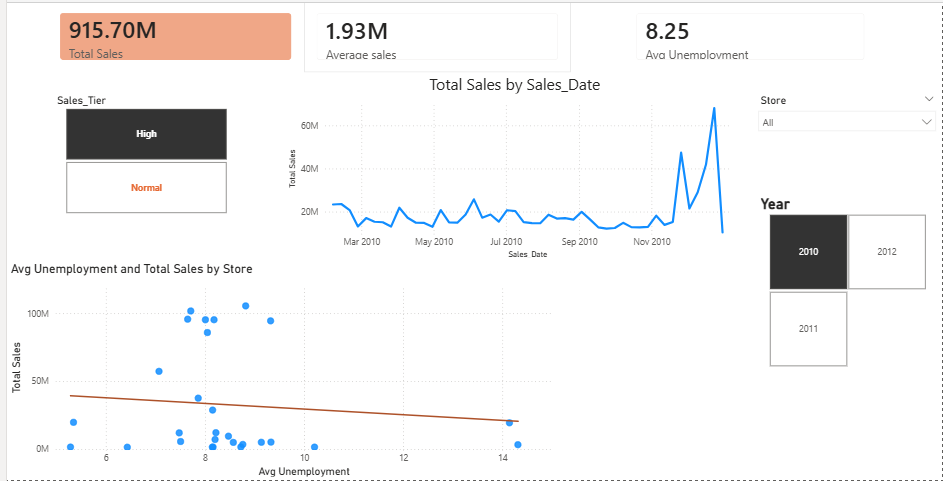

Layout of this report page (visuals, bound fields, positions):
{"tool":"powerbi","page":{"name":"Page 1","canvas":[1280,720],"ordinal":0},"visuals":[{"type":"cardVisual","fields":{"Data":["Clean_Walmart_Data.Total Sales"]},"box":[55.4,63.6,350.6,98.4],"z":0},{"type":"cardVisual","fields":{"Data":["Clean_Walmart_Data.Average sales"]},"box":[405.9,63.6,364.9,98.4],"z":1000},{"type":"cardVisual","fields":{"Data":["Clean_Walmart_Data.Avg Unemployment"]},"box":[842.6,63.6,346.5,98.4],"z":2000},{"type":"slicer","fields":{"Values":["Clean_Walmart_Data.Sales_Tier"]},"box":[55.4,186.6,268.6,174.3],"z":3000},{"type":"lineChart","fields":{"Y":["Clean_Walmart_Data.Total Sales"],"Category":["Clean_Walmart_Data.Sales_Date"]},"box":[379.3,162,629.4,258.3],"z":3001},{"type":"scatterChart","fields":{"Category":["Clean_Walmart_Data.Store"],"X":["Clean_Walmart_Data.Avg Unemployment"],"Y":["Clean_Walmart_Data.Total Sales"]},"box":[0,420.3,756.5,299.3],"z":3002},{"type":"slicer","fields":{"Values":["DateTable.Date.Variation.Date Hierarchy.Year"]},"box":[1016.9,323.9,262.4,246],"z":3003},{"type":"slicer","fields":{"Values":["Clean_Walmart_Data.Store"]},"box":[1016.9,186.6,262.4,112.8],"z":3004}]}

Visuals, with their boxes on the page's 1280x720 design canvas (x1, y1, x2, y2). These are canvas units, not pixel positions in the 943x481 screenshot, which may show the page scaled, cropped or inside an application window:
cardVisual - Clean_Walmart_Data.Total Sales: <region>55, 64, 406, 162</region>
cardVisual - Clean_Walmart_Data.Average sales: <region>406, 64, 771, 162</region>
cardVisual - Clean_Walmart_Data.Avg Unemployment: <region>843, 64, 1189, 162</region>
slicer - Clean_Walmart_Data.Sales_Tier: <region>55, 187, 324, 361</region>
lineChart - Clean_Walmart_Data.Total Sales x Clean_Walmart_Data.Sales_Date: <region>379, 162, 1009, 420</region>
scatterChart - Clean_Walmart_Data.Store x Clean_Walmart_Data.Avg Unemployment: <region>0, 420, 756, 720</region>
slicer - DateTable.Date.Variation.Date Hierarchy.Year: <region>1017, 324, 1279, 570</region>
slicer - Clean_Walmart_Data.Store: <region>1017, 187, 1279, 299</region>
